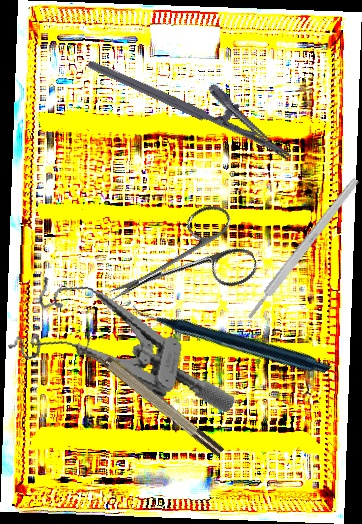Fixation Ring: (72, 330, 227, 466)
Handpiece: (130, 231, 334, 442)
Iris Scissors: (92, 196, 263, 337)
Needle Holder: (86, 31, 306, 163)
Scalpel Handle: (244, 176, 361, 321)
Speculum: (1, 272, 253, 414)
